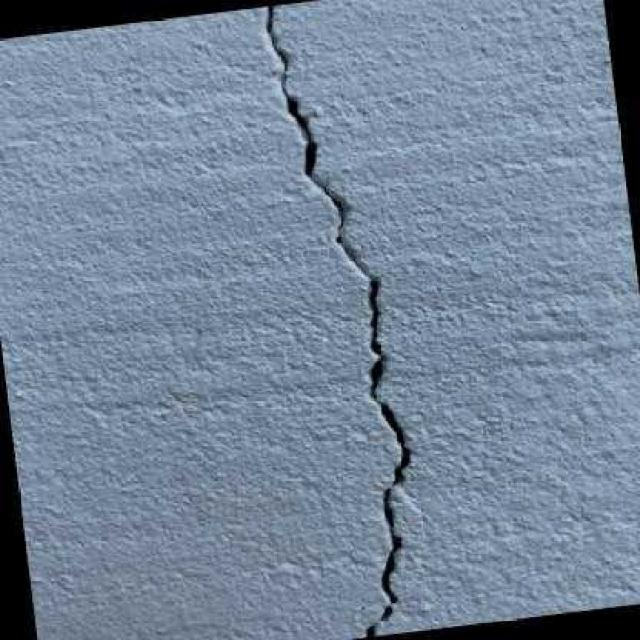D00: (260, 6, 416, 636)
